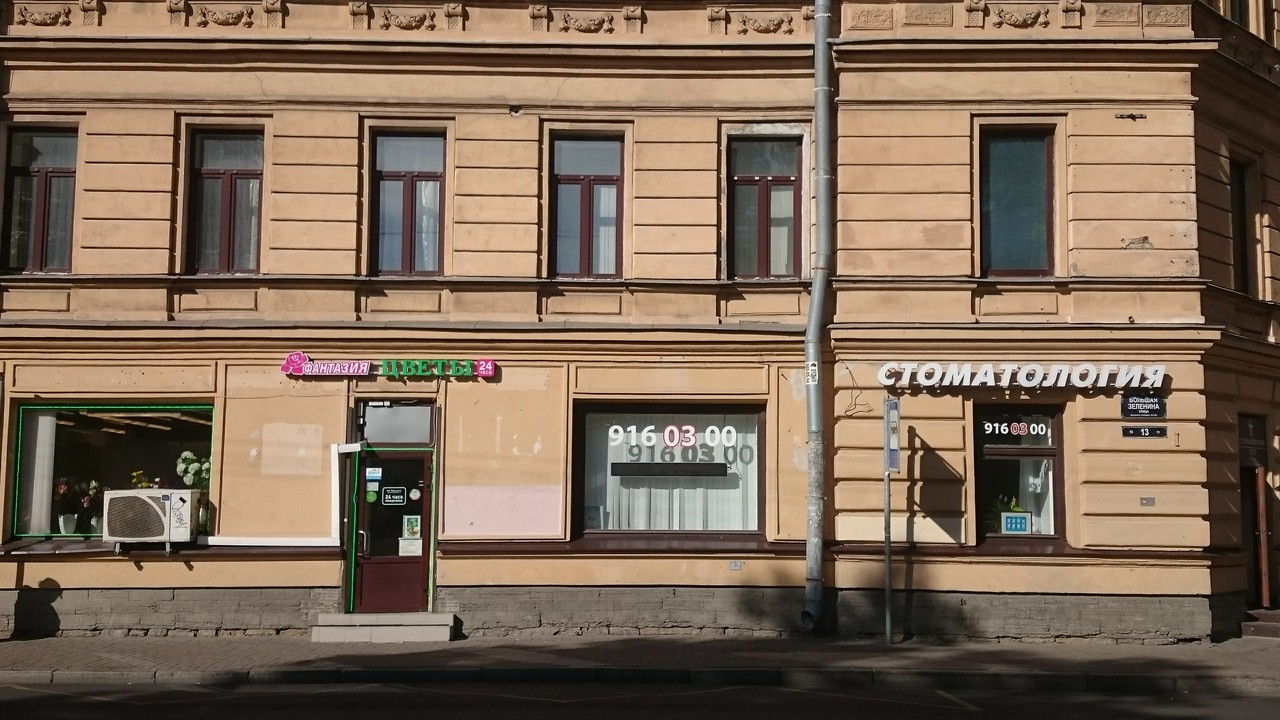door: (349, 452, 434, 612)
signboard: (878, 362, 1167, 388), (282, 352, 498, 381)
window: (572, 401, 767, 539), (17, 401, 212, 536), (976, 404, 1066, 544), (186, 127, 266, 276), (980, 122, 1056, 277), (2, 123, 78, 271), (368, 131, 445, 277), (728, 137, 799, 281), (552, 137, 626, 275), (357, 400, 435, 447)
